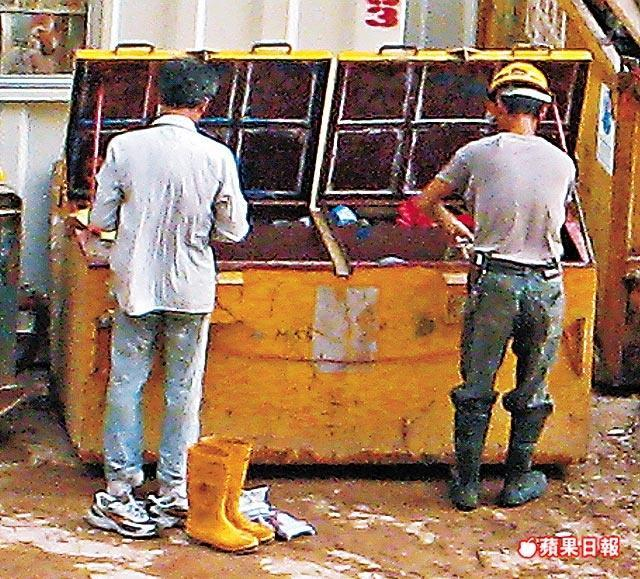helmet: (480, 61, 558, 99)
no-helmet: (156, 55, 220, 94)
no-shoes: (84, 497, 146, 540), (142, 493, 182, 535)
no-vest: (88, 125, 248, 308), (442, 132, 582, 268)
person: (412, 62, 580, 510), (89, 56, 250, 500)
shoes: (207, 432, 281, 538), (444, 390, 496, 511), (498, 394, 551, 506), (184, 461, 233, 554)
